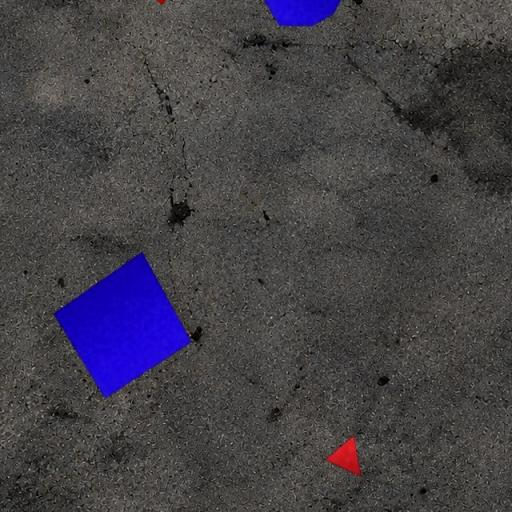BLUE_SQUARE: (53, 251, 192, 399)
